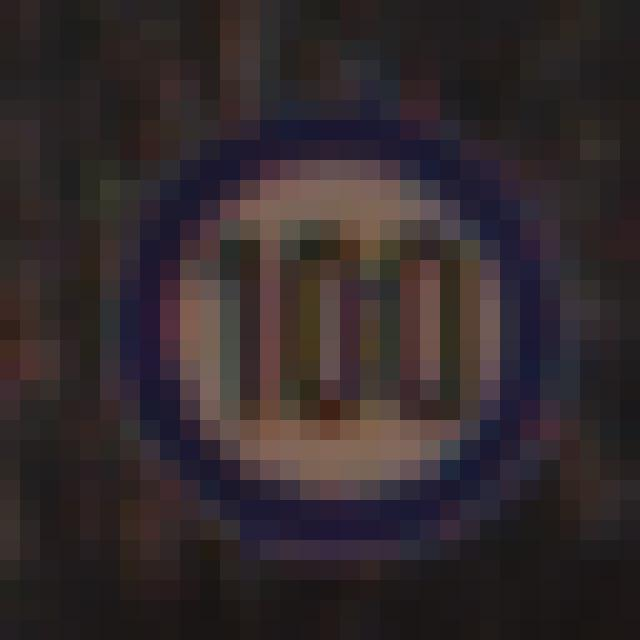SPEED LIMIT 100: (104, 129, 572, 568)
